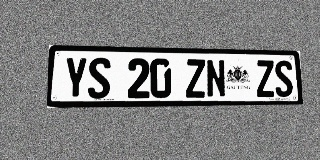0: (150, 58, 171, 98)
2: (128, 58, 149, 98)
N: (206, 59, 226, 98)
S: (88, 57, 111, 99), (274, 60, 293, 97)
Y: (64, 57, 88, 99)
Z: (185, 59, 206, 98), (256, 60, 275, 97)
